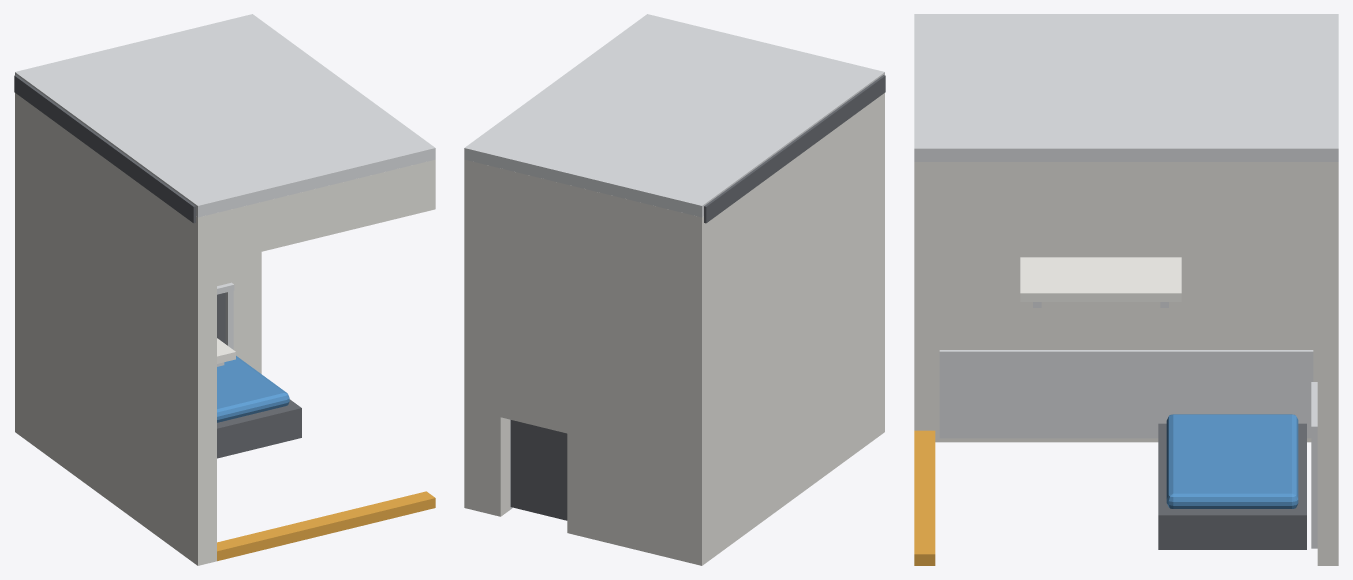
Rendered from boarding-kennels-and-cattery-boarding-kennels-and-catt-d729053e__35528.glb.
3 renders of one model, left to right at view 1: azimuth 30°, elevation 25°; view 2: azimuth 150°, elevation 25°; view 3: azimuth 270°, elevation 25°, orthographic. The views are drawn at different scales.
Parts seen in each view (by area): view 1: boarding-kennels-and-cattery-kennel-bay-module; view 2: boarding-kennels-and-cattery-kennel-bay-module, pop-hatch/charcoal; view 3: boarding-kennels-and-cattery-kennel-bay-module.
Boxes of the visible parts, x1,y1,x2,y2 form: boarding-kennels-and-cattery-kennel-bay-module: (14,14,435,565); boarding-kennels-and-cattery-kennel-bay-module: (464,14,885,565); pop-hatch/charcoal: (510,420,567,520); boarding-kennels-and-cattery-kennel-bay-module: (914,14,1338,565).
Size of the model in its own units: 1.51 by 2.17 by 2.
